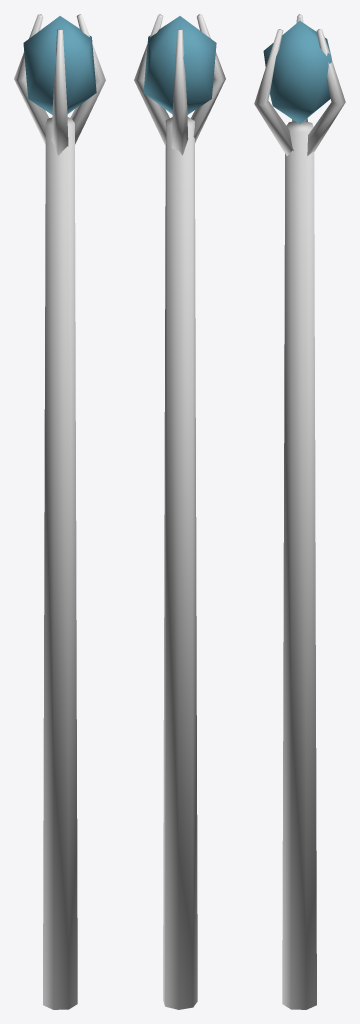
File: tempest_staff.glb
3 renders of one model, left to right at view 1: azimuth 30°, elevation 25°; view 2: azimuth 150°, elevation 25°; view 3: azimuth 330°, elevation 25°, orthographic.
Visible parts, largest first — view 1: tempest_staff_v0; view 2: tempest_staff_v0; view 3: tempest_staff_v0.
Part boxes in pixels (x1,y1,x2,y2): tempest_staff_v0: [14, 14, 105, 1009]; tempest_staff_v0: [134, 14, 225, 1009]; tempest_staff_v0: [254, 14, 345, 1009].
Size of the model in its own units: 0.1164 by 1.46 by 0.1182.
